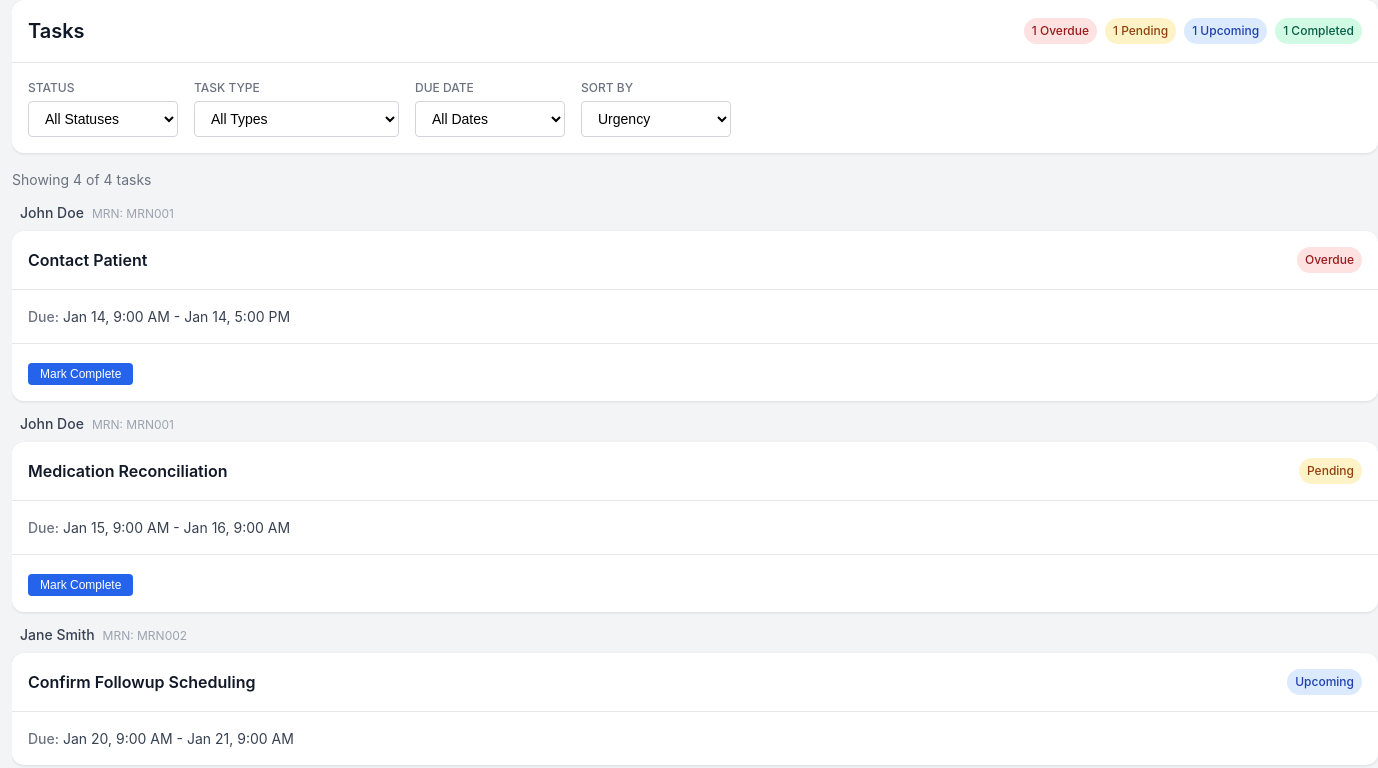
Test: TaskListView › filters › shows empty state when no tasks match filters
This screenshot has width=1378, height=768.
Select "Completed" in the dropdown labelled "Status": (103, 119) x1=28 y1=101 x2=178 y2=137
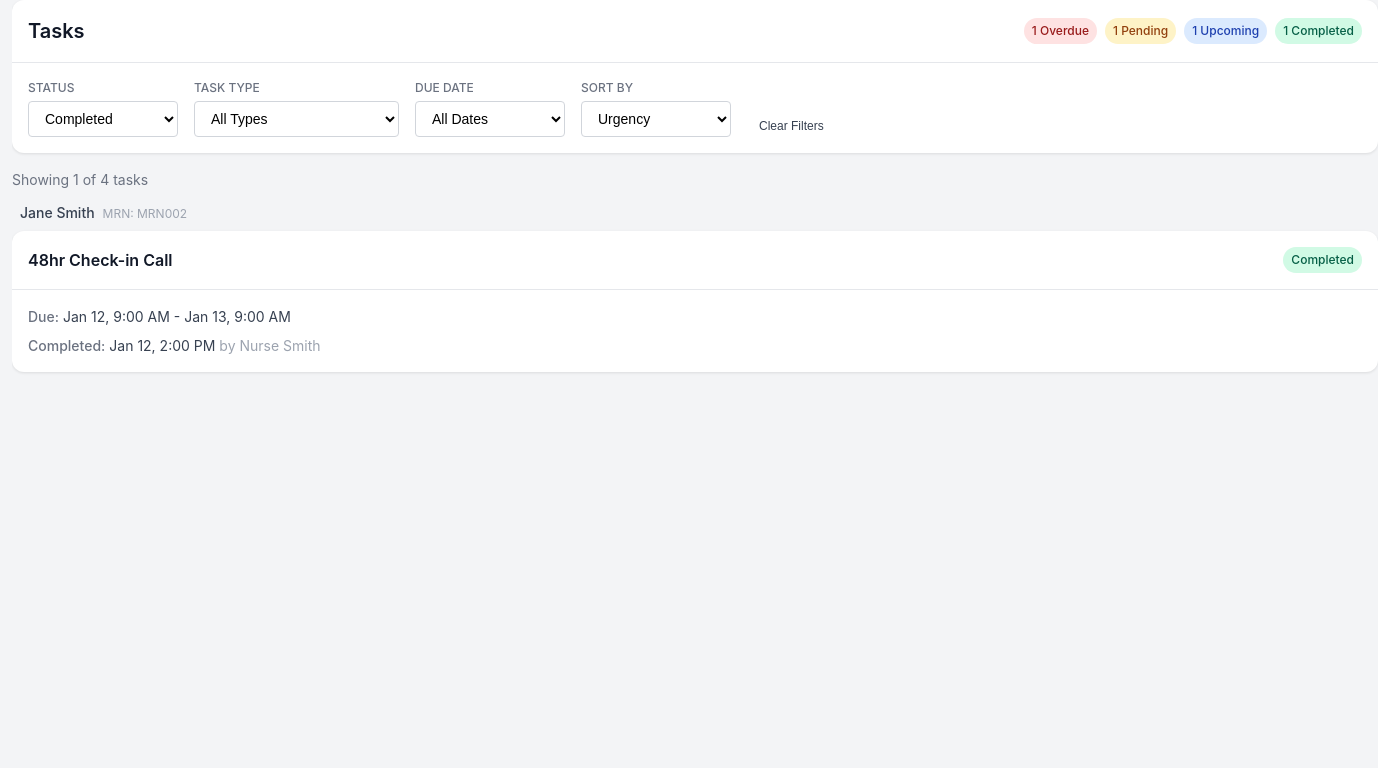
Select "Contact Patient" in the dropdown labelled "Task Type": (296, 119) x1=194 y1=101 x2=399 y2=137
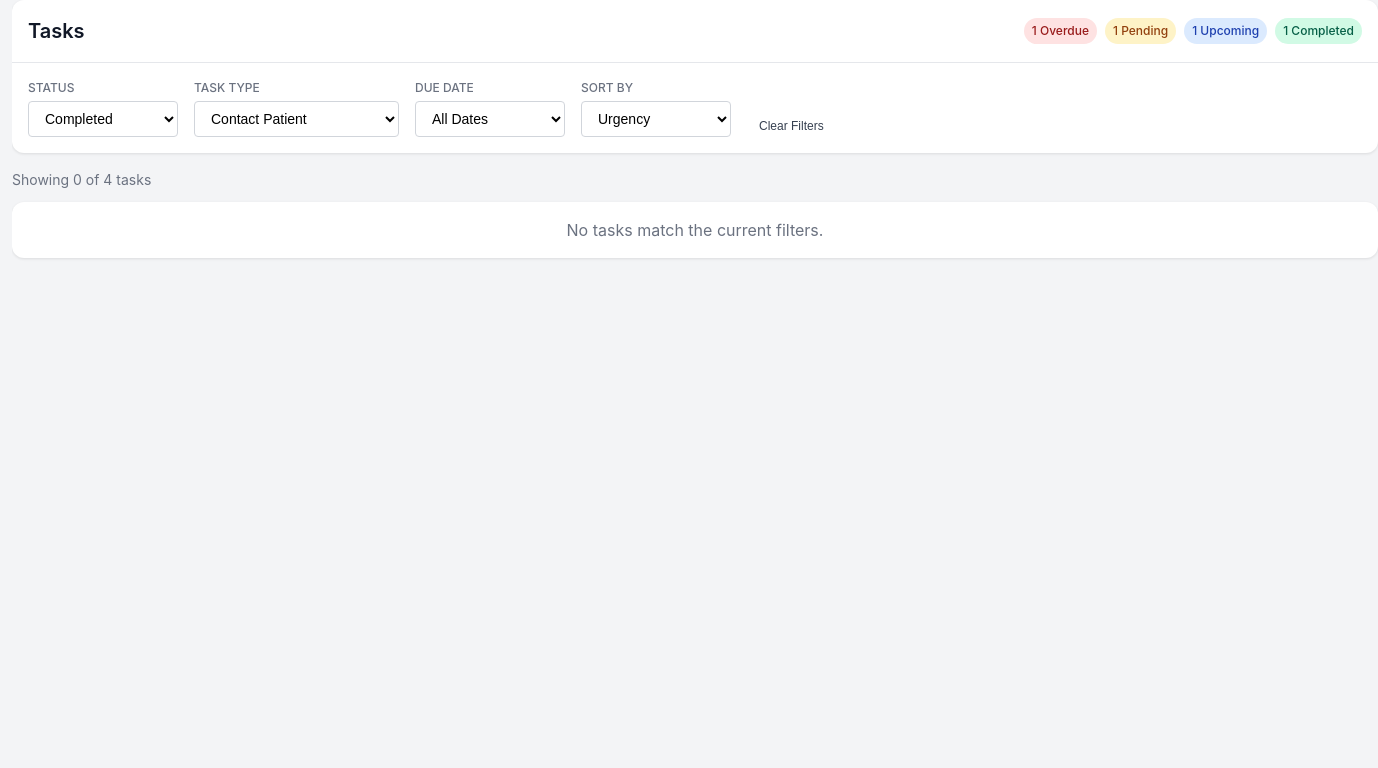
Result: the text "Showing 0 of 4 tasks" is shown at x1=12 y1=171 x2=151 y2=188
Result: the text "No tasks match the current filters." is shown at x1=567 y1=220 x2=824 y2=240
